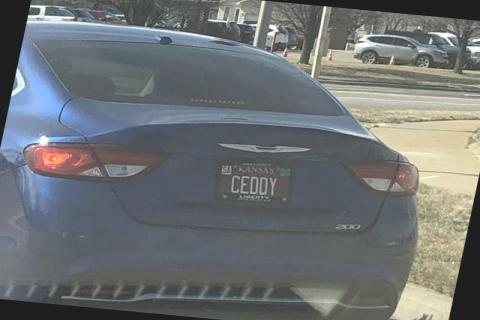LicensePlate: (210, 156, 293, 203)
